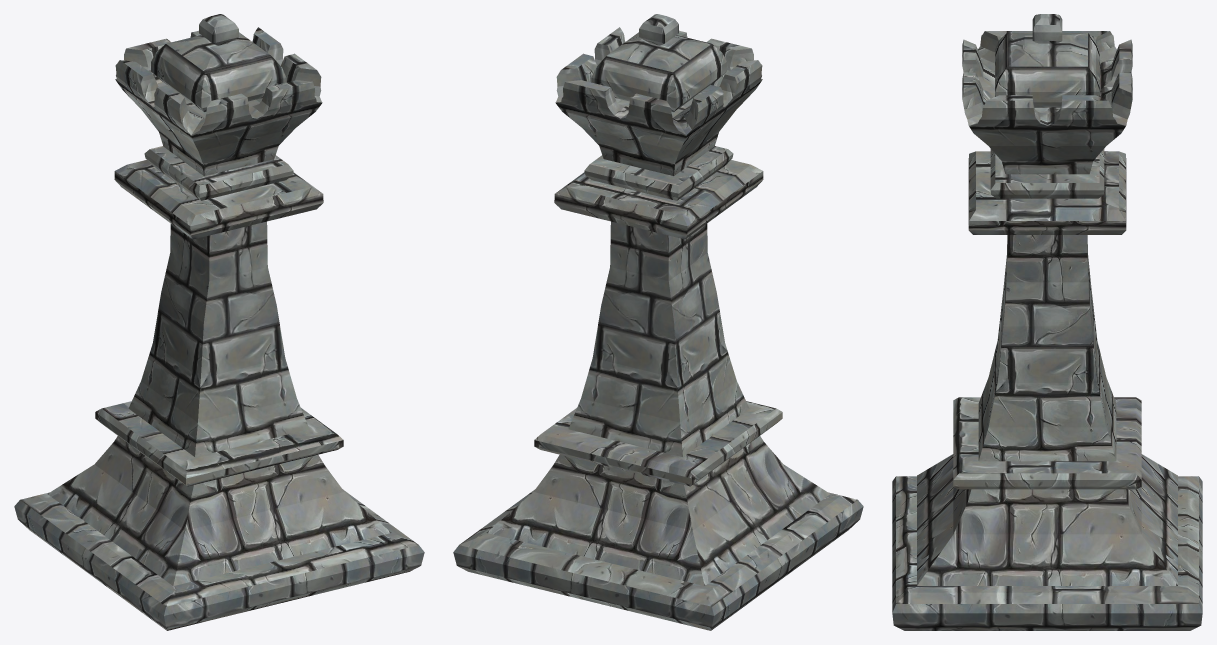
Rendered from Base Queen.obj.
The picture shows the model from 3 angles, left to right: view 1: azimuth 30°, elevation 25°; view 2: azimuth 150°, elevation 25°; view 3: azimuth 270°, elevation 25°; orthographic projection. The views are drawn at different scales.
Visible parts, largest first — view 1: [MESH]_Queen_Cube; view 2: [MESH]_Queen_Cube; view 3: [MESH]_Queen_Cube.
Boxes of the visible parts, box(x1,y1,x2,y2) form: [MESH]_Queen_Cube: box(14, 14, 424, 630); [MESH]_Queen_Cube: box(453, 14, 863, 630); [MESH]_Queen_Cube: box(892, 14, 1202, 630).
Size of the model in its own units: 1.51 by 2.95 by 1.5.
